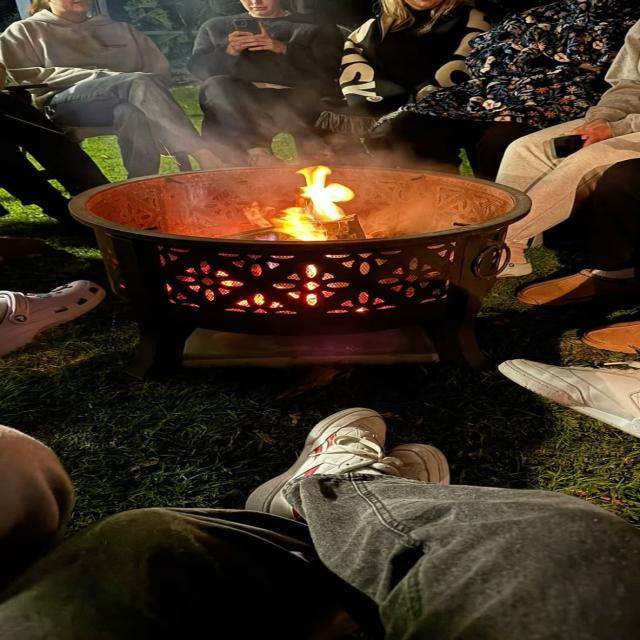fire: (230, 166, 361, 242)
